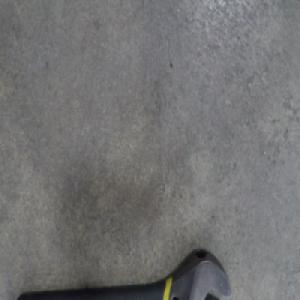AdjustableWrench: (19, 248, 231, 300)
